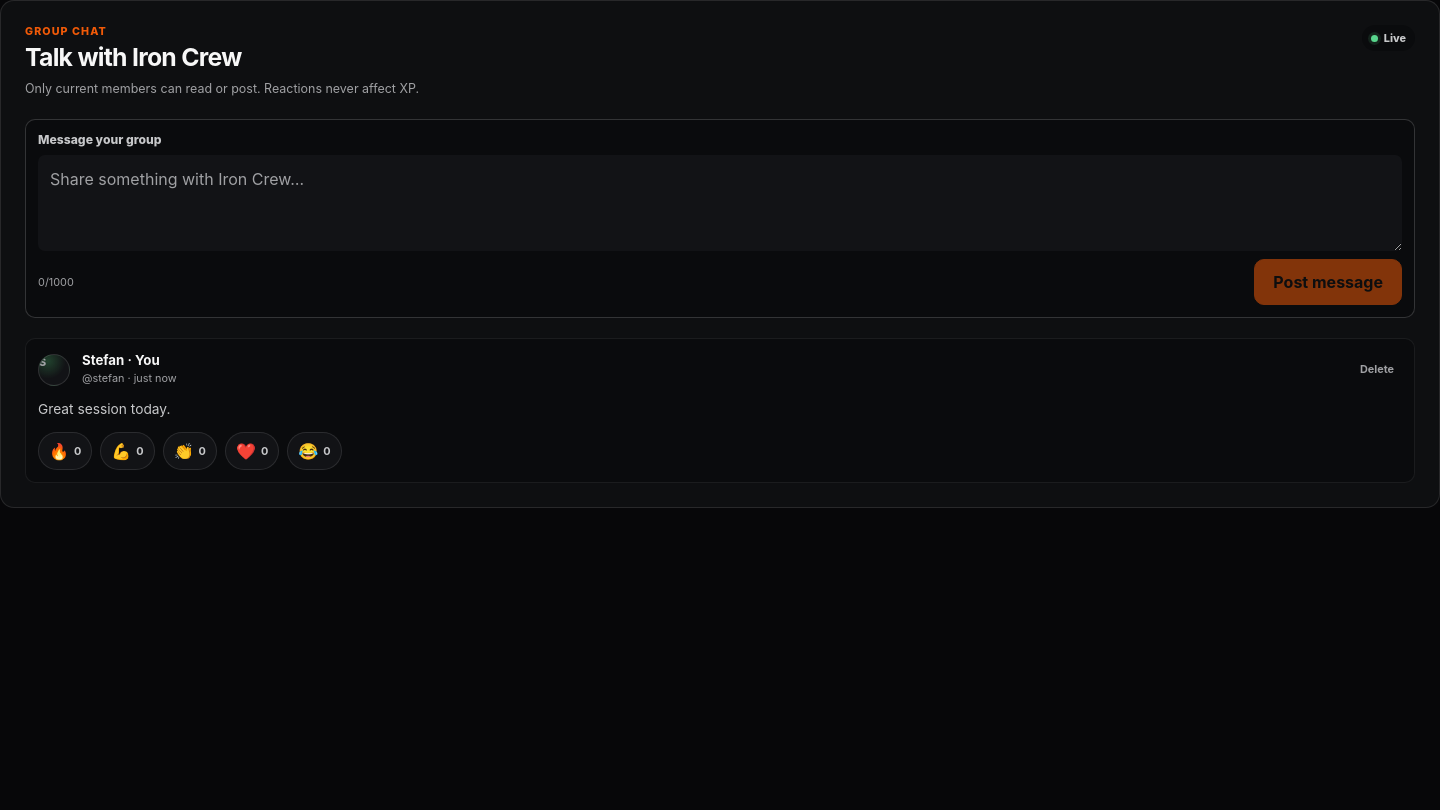
Test: GroupChatPanel › posts, reacts, and deletes an own message behind explicit confirmation
The width and height of the screenshot is (1440, 810).
Check: the heading "Talk with Iron Crew" is shown, box [25,42,242,72]
Type "Who is lifting tomorrow?" into the text box labelled "Message your group" at [720, 203], box [38,155,1402,251]
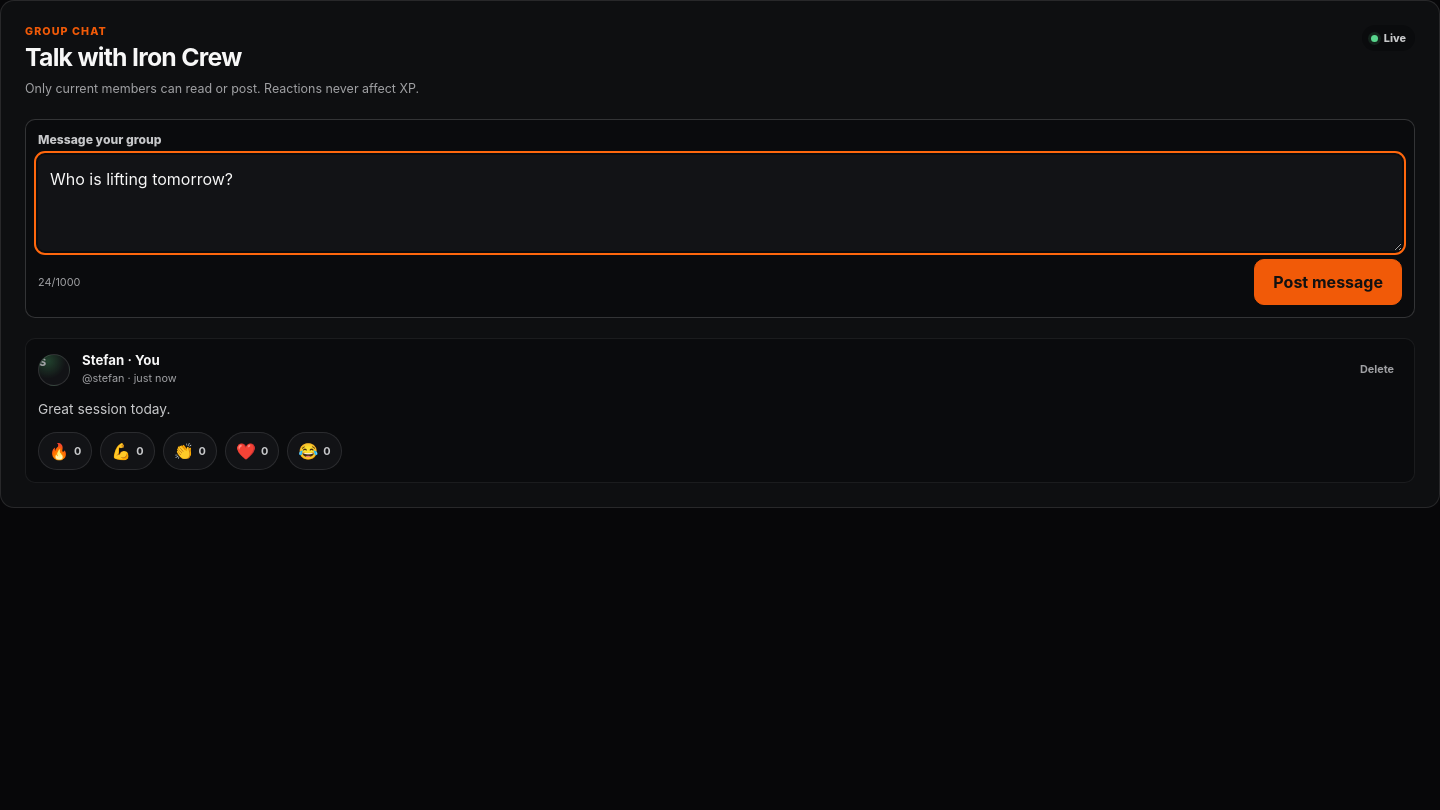
Click the button "Post message" at [1328, 282], box [1254,259,1402,305]
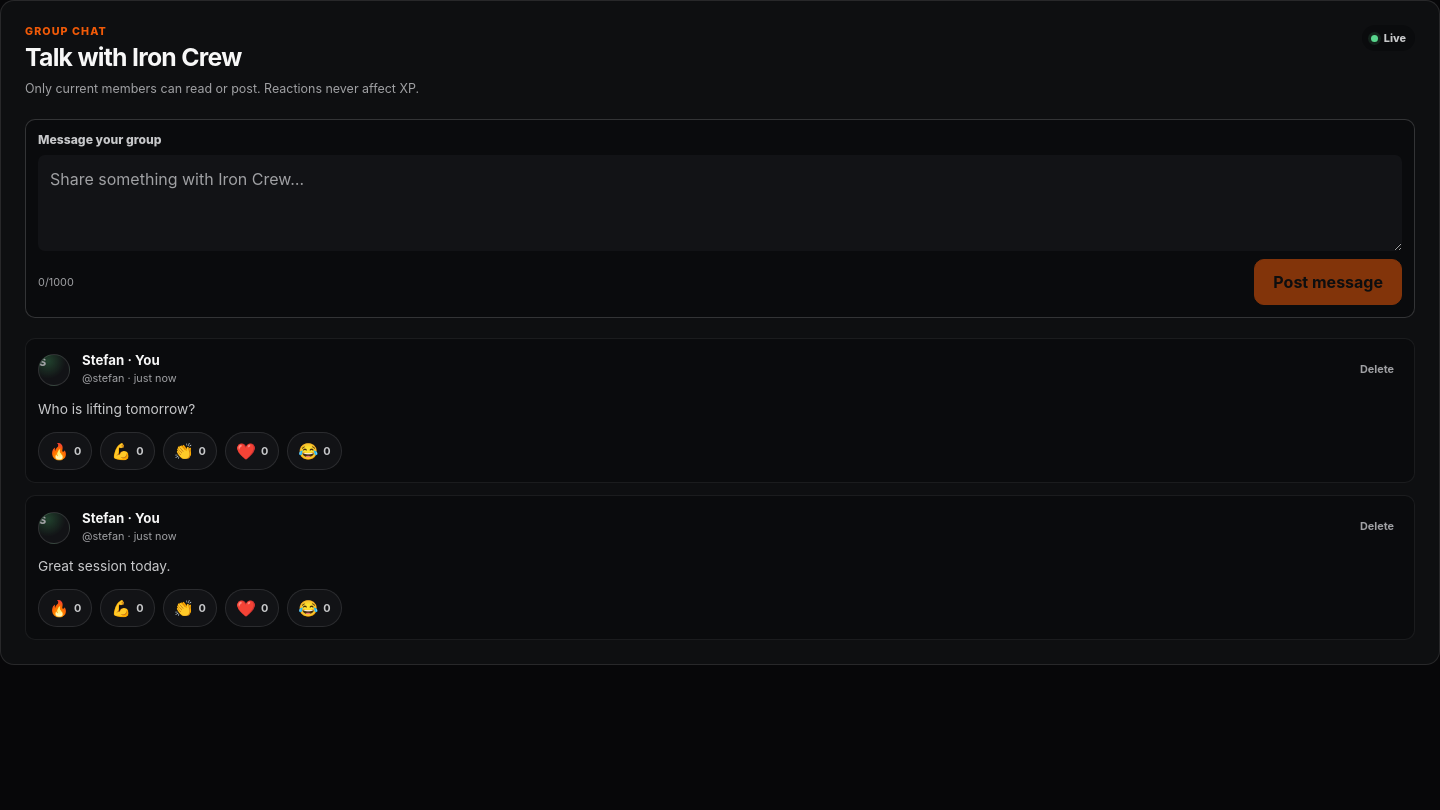
Check: the text "Who is lifting tomorrow?" is shown, box [38,401,195,417]
Click the button named "fire reaction, 0" at [65, 451], box [38,432,92,470]
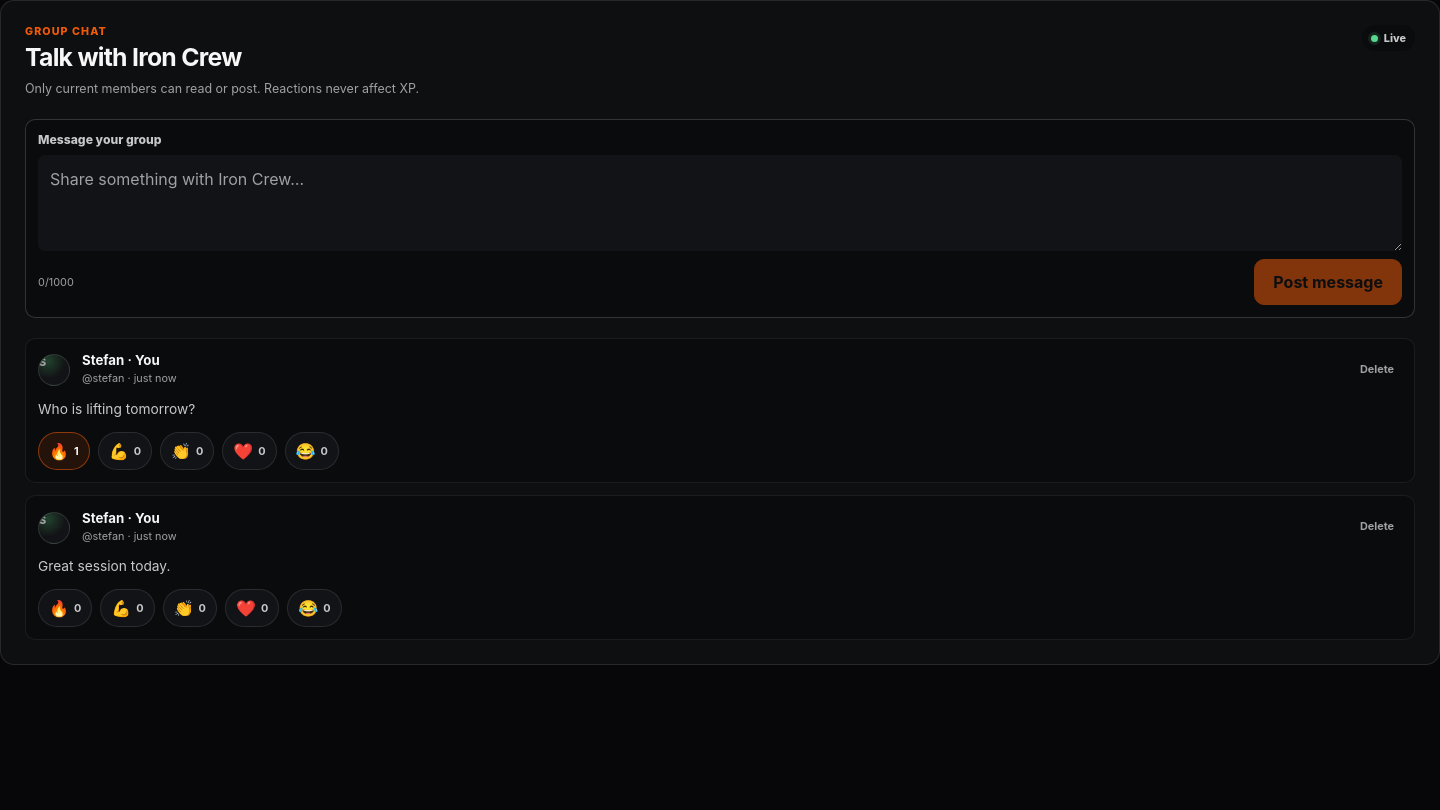
Click the button with aria-label "Delete message from Stefan" at [1377, 369], box [1352,351,1402,387]
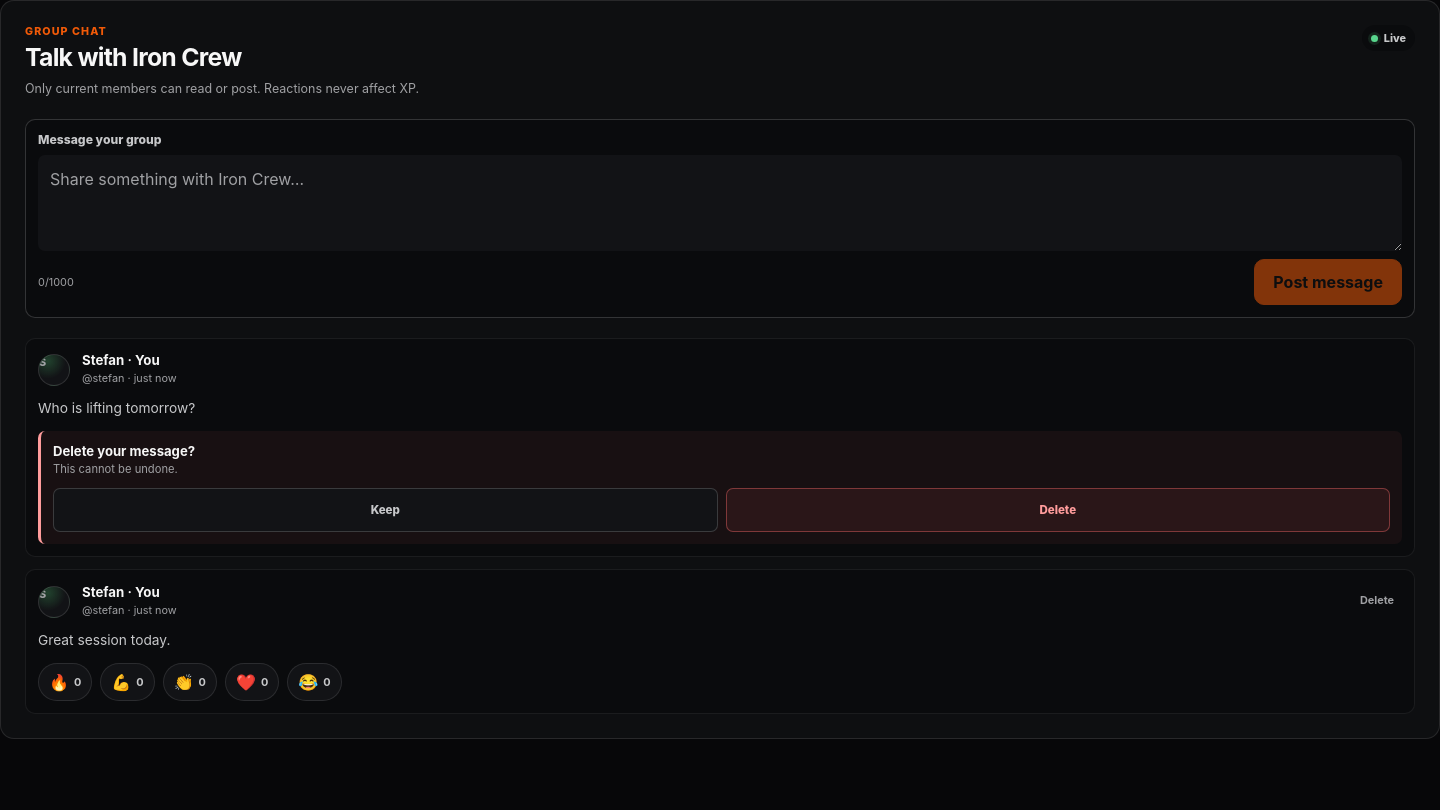
Check: the text "Delete your message?" is shown, box [53,443,195,459]
Click the 1st button "Delete" at [1058, 510], box [726,488,1390,532]
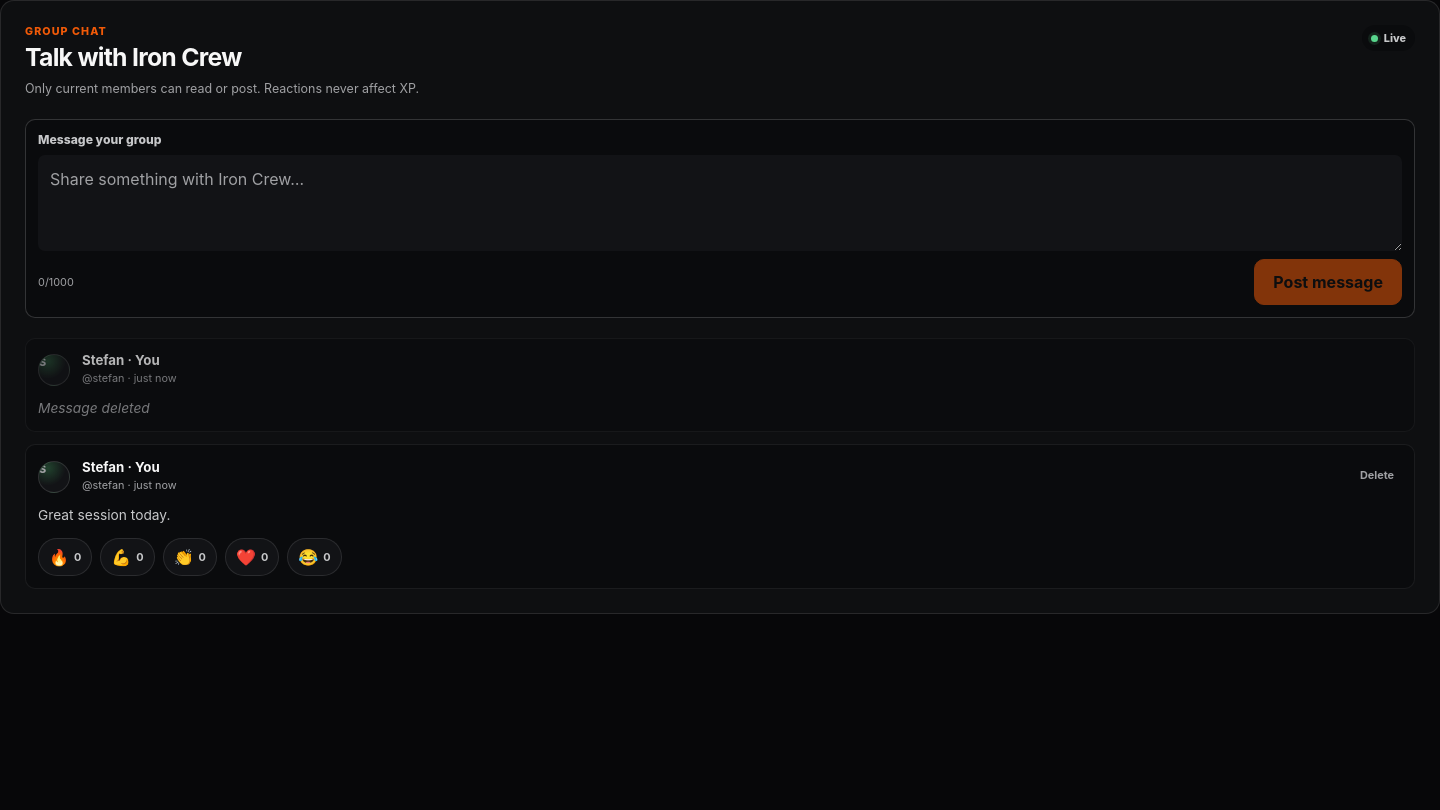
Check: the text "Message deleted" is shown, box [38,400,150,416]
